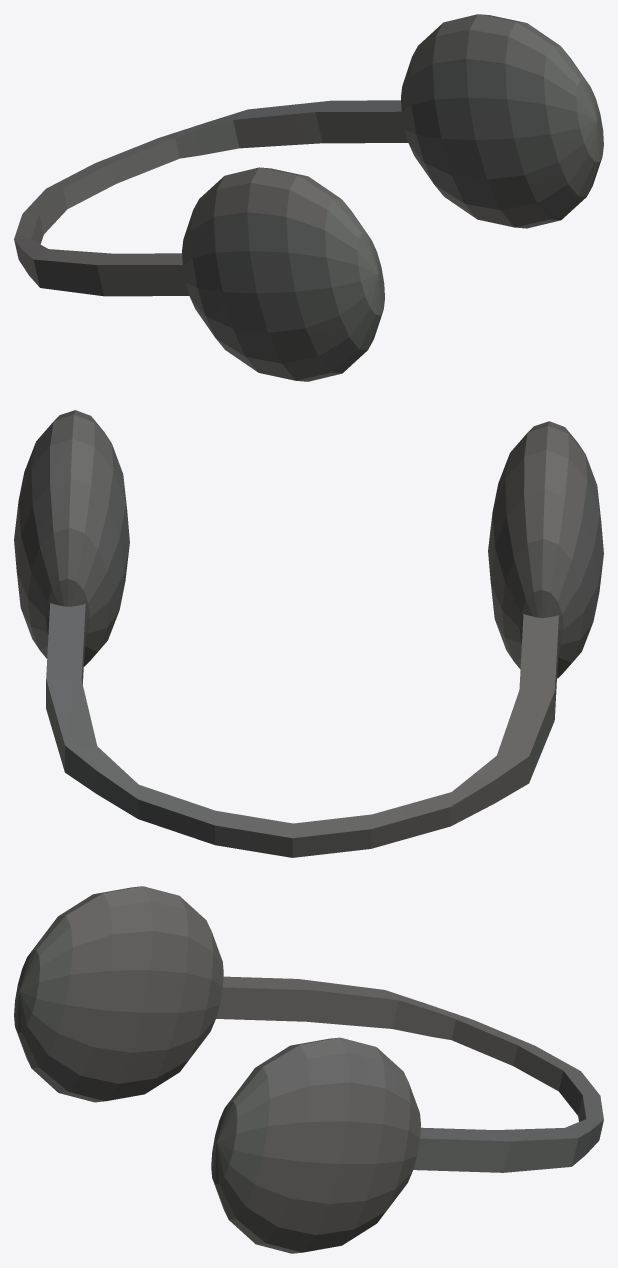
File: headphones--2.gltf
3 renders of one model, top to bottom at view 1: azimuth 30°, elevation 25°; view 2: azimuth 150°, elevation 25°; view 3: azimuth 270°, elevation 25°, orthographic. The views are drawn at different scales.
Parts seen in each view (by area): view 1: Headphones2; view 2: Headphones2; view 3: Headphones2.
Part boxes in pixels (x1,y1,x2,y2): Headphones2: (14,14,603,381); Headphones2: (14,410,603,857); Headphones2: (14,886,603,1253).
Bounding box in the file's own units: 0.238 × 0.0969 × 0.244.
1 material, 1 textured.
